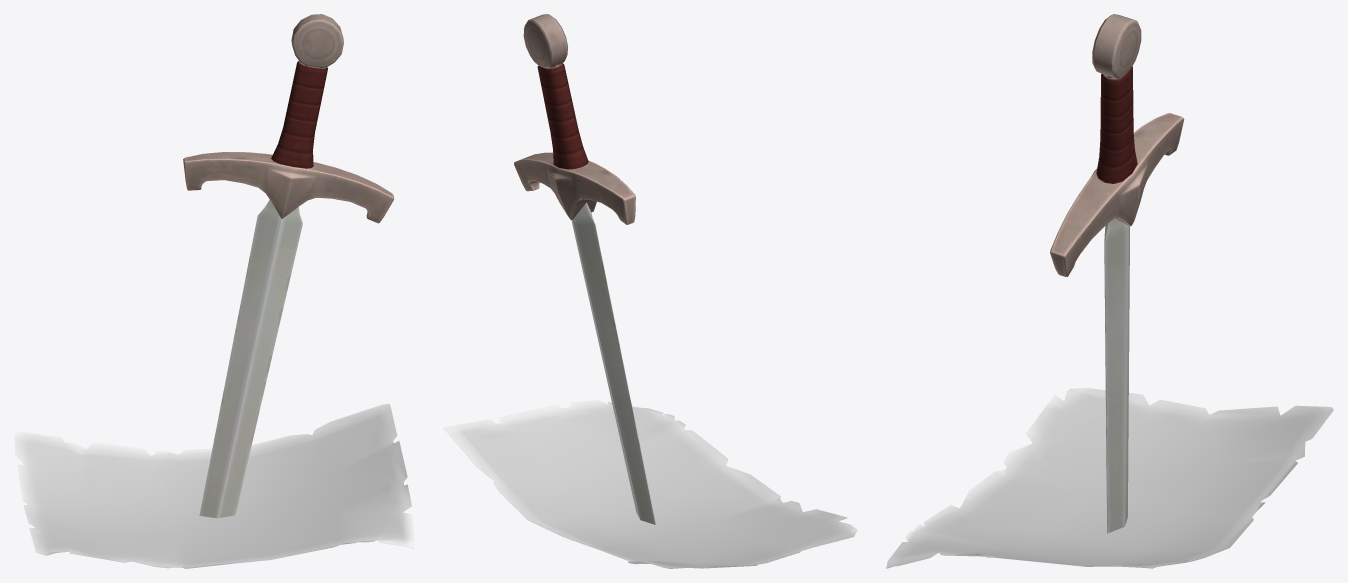
3 renders of one model, left to right at view 1: azimuth 30°, elevation 25°; view 2: azimuth 150°, elevation 25°; view 3: azimuth 270°, elevation 25°, orthographic. The views are drawn at different scales.
Size of the model in its own units: 9.1 by 11.71 by 7.75.
2 materials, 2 textured.
